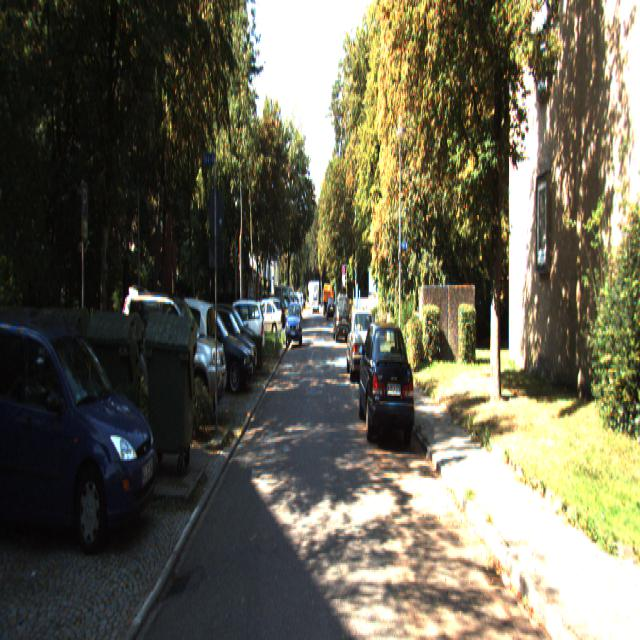Car: (0, 309, 159, 558), (118, 277, 228, 433), (173, 300, 254, 398), (357, 320, 418, 450), (346, 311, 377, 382), (248, 300, 282, 340), (333, 294, 351, 344), (286, 305, 302, 349)
